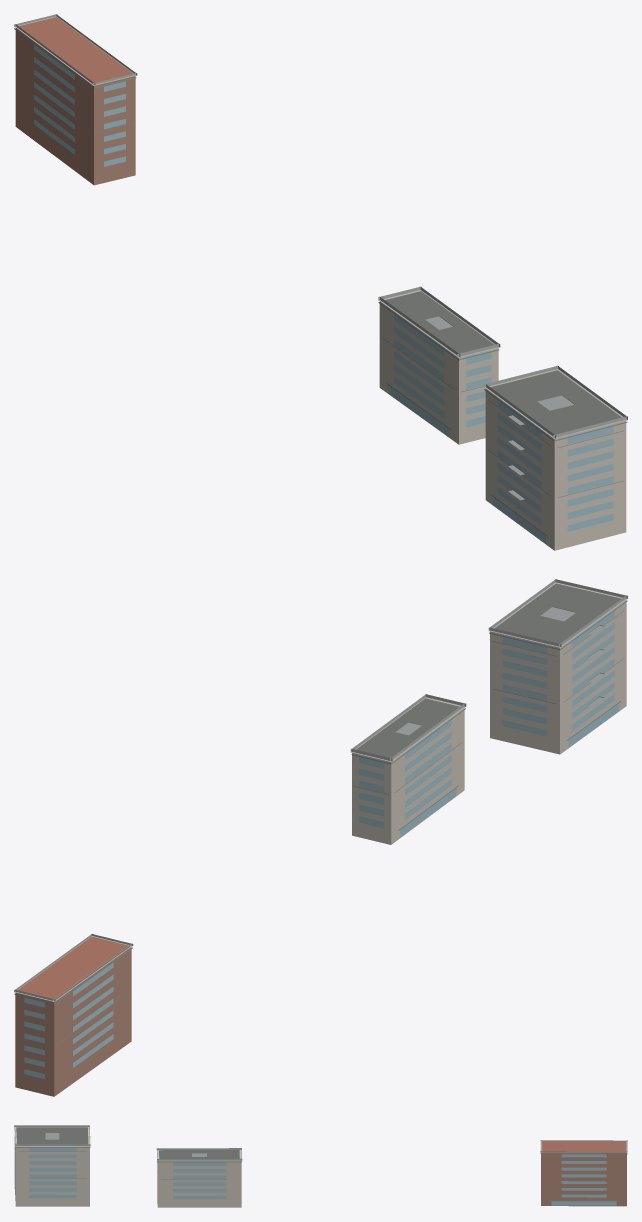
File: tile-p003-p002.glb
3 views of the same model, one above another, from view 1: azimuth 30°, elevation 25°; view 2: azimuth 150°, elevation 25°; view 3: azimuth 270°, elevation 25° (orthographic). The views are drawn at different scales.
Visible parts, largest first — view 1: building-1252-mesh-0, building-1267-mesh-13, building-1257-mesh-7, building-1252-mesh-1, building-1252-mesh-4, building-1257-mesh-8, building-1267-mesh-16, building-1267-mesh-14, building-1257-mesh-10, building-1252-mesh-5, building-1257-mesh-11, building-1267-mesh-17; view 2: building-1252-mesh-0, building-1267-mesh-13, building-1257-mesh-7, building-1252-mesh-1, building-1252-mesh-4, building-1257-mesh-8, building-1267-mesh-16, building-1267-mesh-14, building-1257-mesh-10, building-1252-mesh-5, building-1257-mesh-11, building-1267-mesh-17; view 3: building-1267-mesh-13, building-1252-mesh-0, building-1257-mesh-7, building-1252-mesh-1, building-1267-mesh-14, building-1257-mesh-8, building-1252-mesh-4, building-1267-mesh-16, building-1257-mesh-10, building-1252-mesh-5, building-1267-mesh-17, building-1257-mesh-11 (+3 smaller).
Part boxes in pixels (box(x1,y1,x2,y2)): building-1252-mesh-0: box(485, 370, 626, 550); building-1267-mesh-13: box(15, 28, 135, 185); building-1257-mesh-7: box(379, 291, 498, 444); building-1252-mesh-1: box(493, 400, 613, 543); building-1252-mesh-4: box(490, 370, 621, 434); building-1257-mesh-8: box(389, 314, 491, 436); building-1267-mesh-16: box(17, 17, 132, 83); building-1267-mesh-14: box(34, 44, 125, 166); building-1257-mesh-10: box(385, 291, 494, 353); building-1252-mesh-5: box(484, 365, 627, 438); building-1257-mesh-11: box(378, 286, 500, 357); building-1267-mesh-17: box(14, 14, 137, 85); building-1252-mesh-0: box(490, 583, 626, 754); building-1267-mesh-13: box(15, 947, 131, 1096); building-1257-mesh-7: box(352, 698, 464, 844); building-1252-mesh-1: box(502, 611, 618, 747); building-1252-mesh-4: box(494, 583, 621, 643); building-1257-mesh-8: box(359, 720, 456, 837); building-1267-mesh-16: box(18, 936, 129, 999); building-1267-mesh-14: box(24, 962, 113, 1078); building-1257-mesh-10: box(356, 698, 459, 757); building-1252-mesh-5: box(488, 579, 627, 647); building-1257-mesh-11: box(350, 694, 466, 762); building-1267-mesh-17: box(14, 934, 133, 1001); building-1267-mesh-13: box(541, 1142, 626, 1206); building-1252-mesh-0: box(14, 1127, 89, 1206); building-1257-mesh-7: box(157, 1150, 241, 1207); building-1252-mesh-1: box(14, 1140, 76, 1198); building-1267-mesh-14: box(551, 1154, 616, 1205); building-1257-mesh-8: box(173, 1162, 226, 1199); building-1252-mesh-4: box(16, 1127, 88, 1144); building-1267-mesh-16: box(542, 1141, 625, 1152); building-1257-mesh-10: box(159, 1150, 239, 1158); building-1252-mesh-5: box(14, 1125, 90, 1146); building-1267-mesh-17: box(540, 1140, 627, 1152); building-1257-mesh-11: box(156, 1148, 242, 1160).
Size of the model in its own units: 23.46 by 31 by 278.
